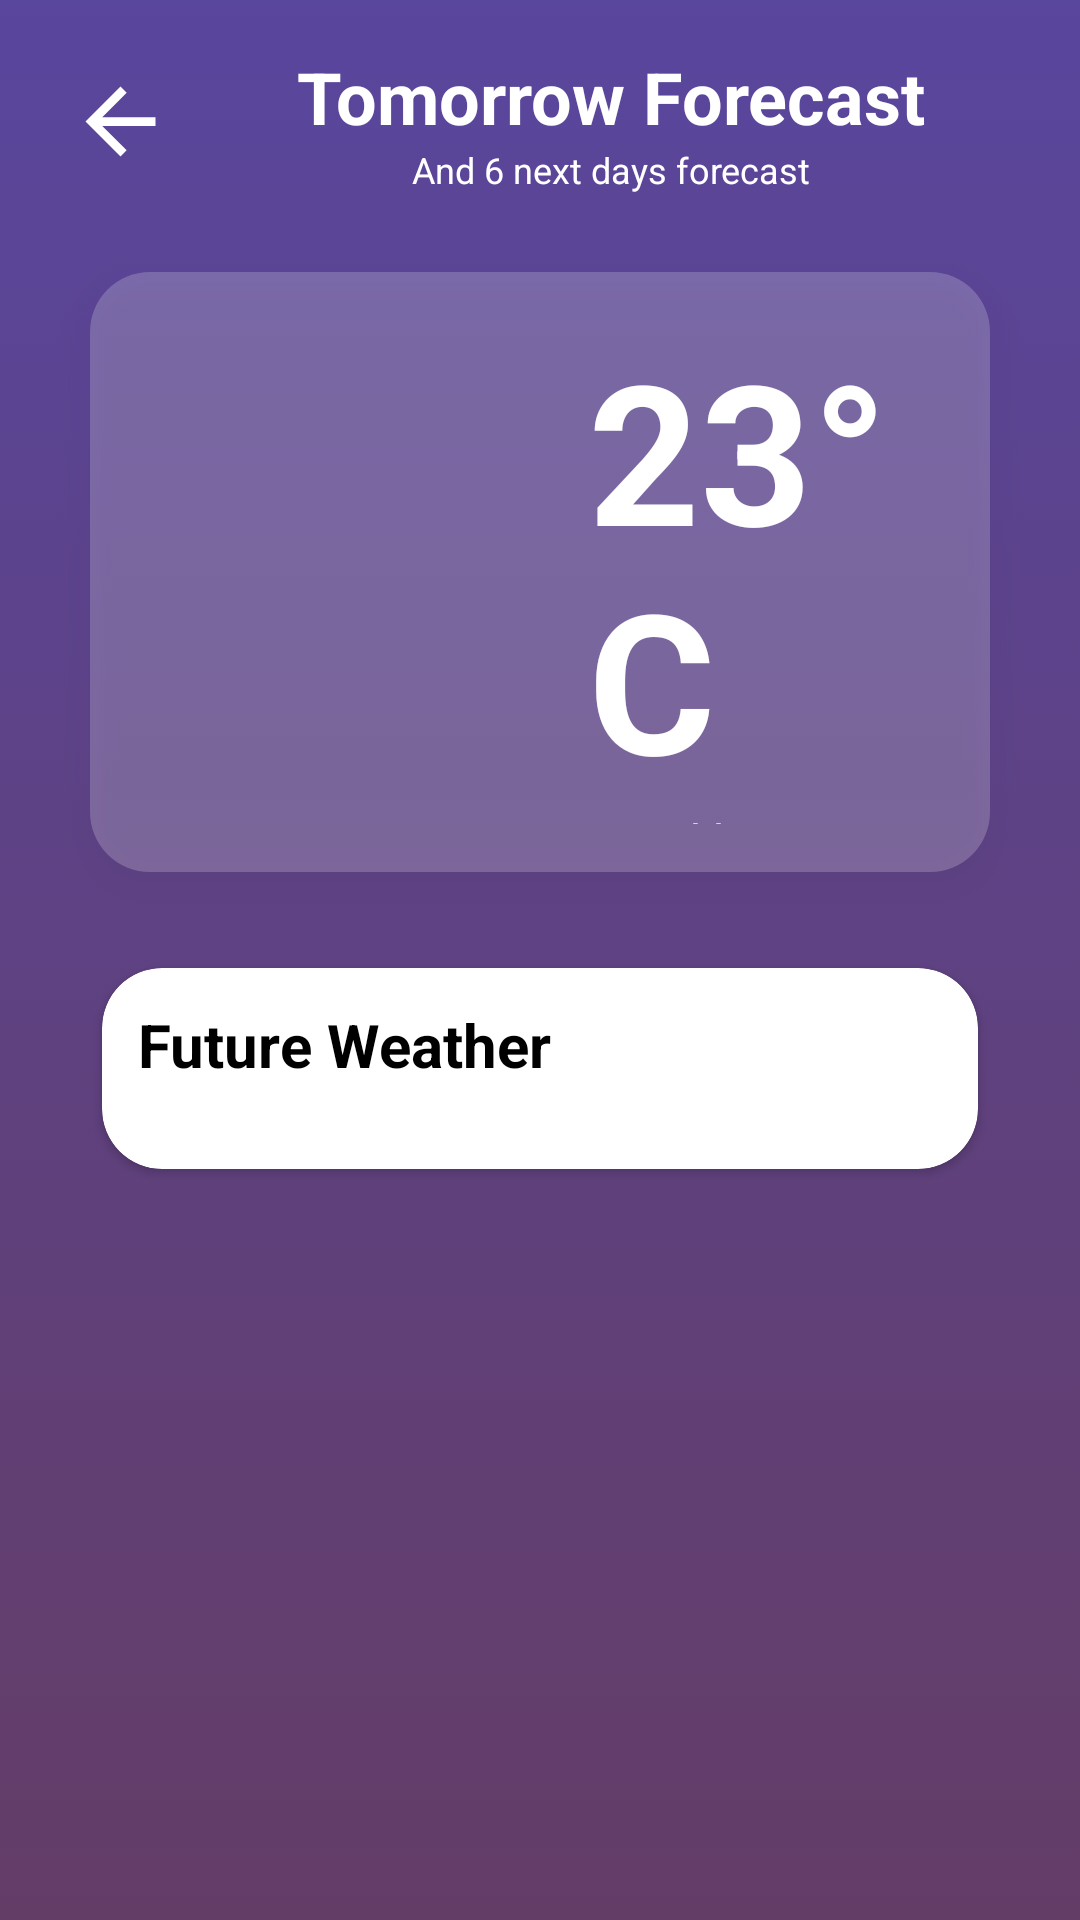

Icons on this 1080px x 1920px Android screen, each with its box as {"left": x1, "top": y1, "right": x2, "bottom": y2}:
back: {"left": 85, "top": 86, "right": 156, "bottom": 157}
